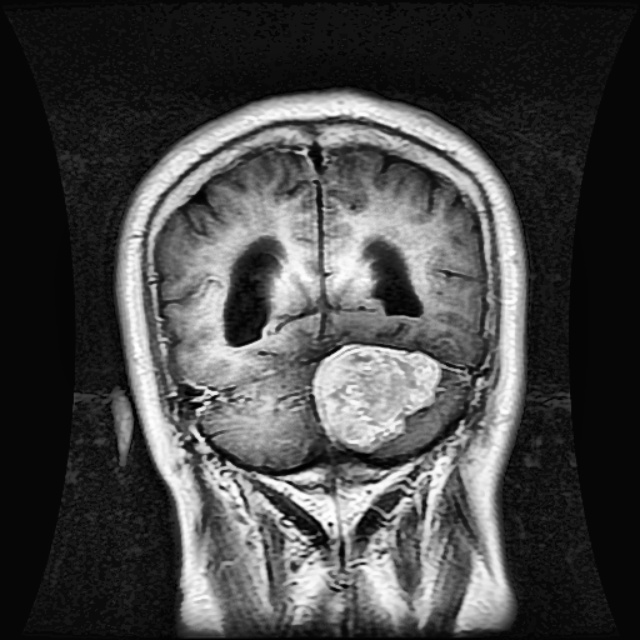Glioma: (313, 343, 439, 450)
